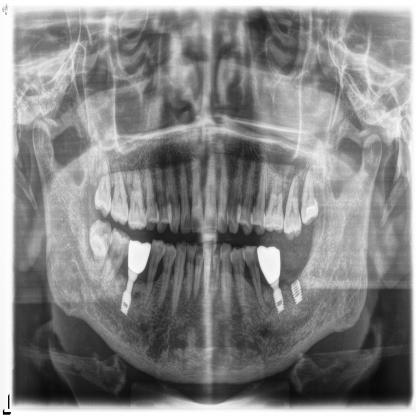Bicon: (114, 269, 142, 319), (268, 277, 286, 315), (290, 276, 304, 308)
